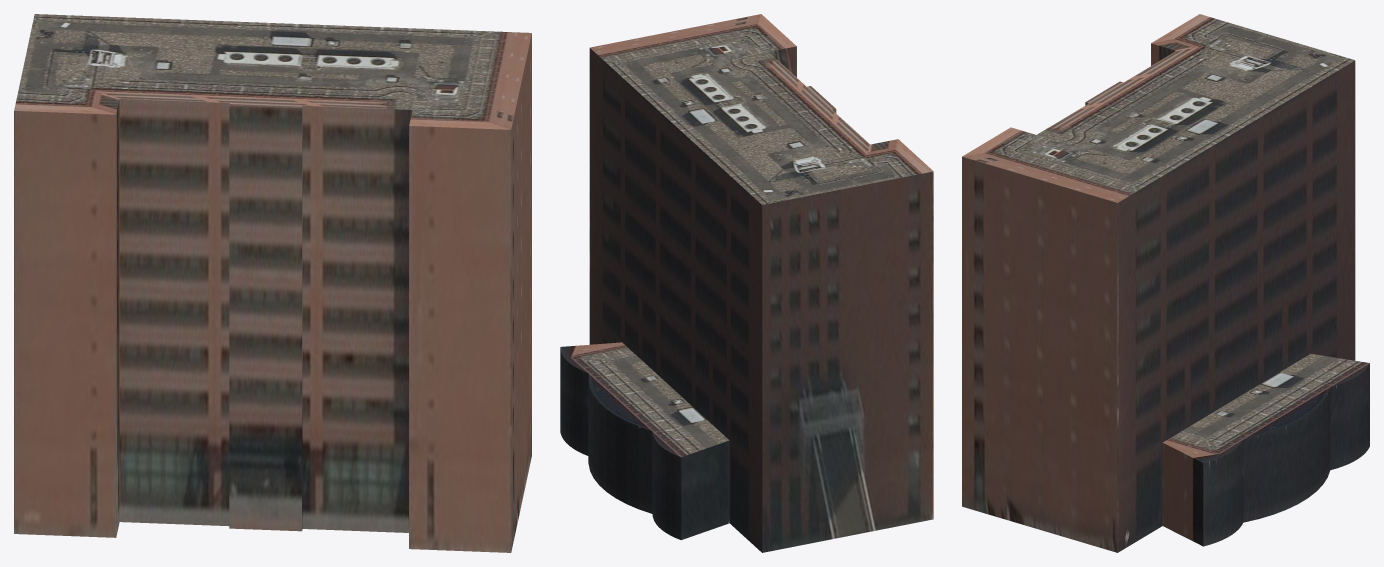
3 views of the same model, side by side, from view 1: azimuth 30°, elevation 25°; view 2: azimuth 150°, elevation 25°; view 3: azimuth 270°, elevation 25° (orthographic). The views are drawn at different scales.
Parts seen in each view (by area): view 1: Z_UP; view 2: Z_UP; view 3: Z_UP.
Part boxes in pixels (box(x1,y1,x2,y2)): Z_UP: box(14, 14, 531, 552); Z_UP: box(560, 14, 933, 552); Z_UP: box(962, 14, 1369, 552).
Bounding box in the file's own units: 38.1 × 32.9 × 34.75.
Materials: 8 (7 with a texture image).
